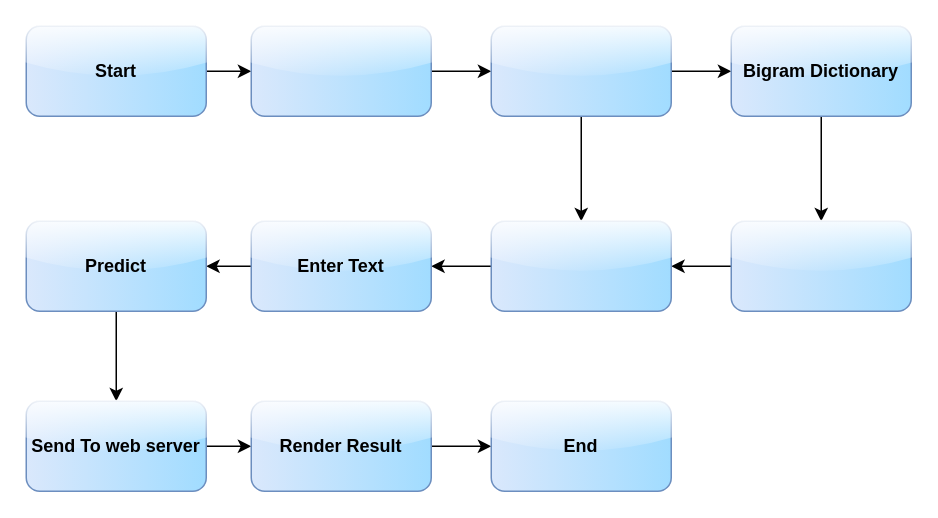
Image size: 938x518. Some labels were removed from this diagram. Each missing label, with the centre of its shape:
"input Data" goes at [340,70].
"Lookup" goes at [820,265].
"Start Web Application" goes at [580,265].
"Tokenization" goes at [580,70].
